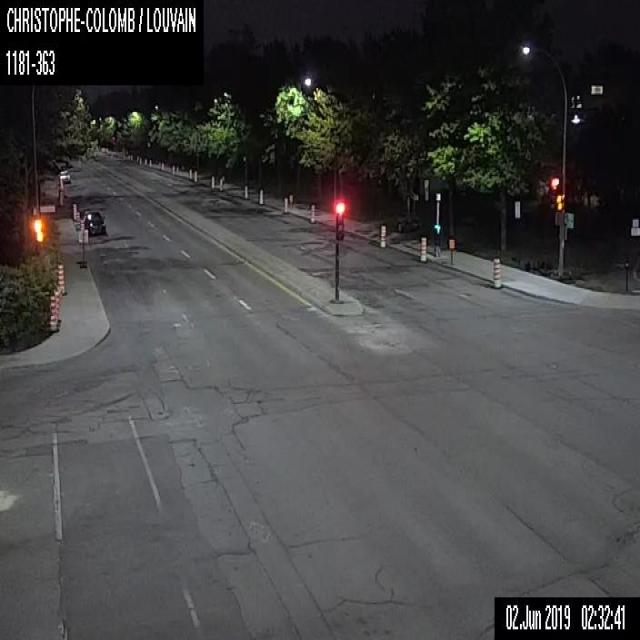construction: (396, 190, 420, 232), (78, 228, 87, 268), (492, 256, 501, 288), (57, 263, 66, 294), (49, 296, 57, 329), (54, 289, 61, 322), (448, 237, 455, 264), (419, 236, 426, 261), (378, 225, 385, 248), (74, 210, 80, 230), (310, 202, 315, 222), (282, 196, 287, 213), (72, 201, 76, 220), (258, 188, 263, 203), (218, 177, 223, 190), (80, 218, 84, 231), (188, 167, 192, 180), (193, 169, 197, 180), (211, 173, 214, 187), (160, 161, 164, 171), (243, 185, 246, 198), (138, 155, 142, 164), (171, 163, 174, 175), (143, 157, 146, 166), (175, 165, 178, 174), (149, 159, 151, 167)
vehicle: (82, 209, 106, 236), (58, 169, 71, 183)
